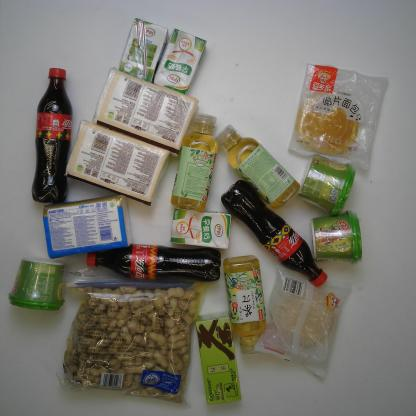Dessert: (253, 264, 350, 379), (288, 64, 388, 164)
Dried Food: (57, 265, 212, 408)
Drink: (220, 179, 328, 288), (214, 124, 301, 209), (30, 67, 74, 207), (85, 242, 223, 282), (170, 113, 218, 212), (222, 254, 268, 357)
Instant Drink: (194, 312, 243, 406), (296, 154, 356, 216), (308, 209, 363, 266), (8, 259, 66, 312)
Milk: (152, 28, 208, 96), (118, 16, 170, 84), (169, 206, 233, 250)
Tissue: (91, 66, 200, 158), (63, 119, 170, 207), (42, 194, 132, 260)
